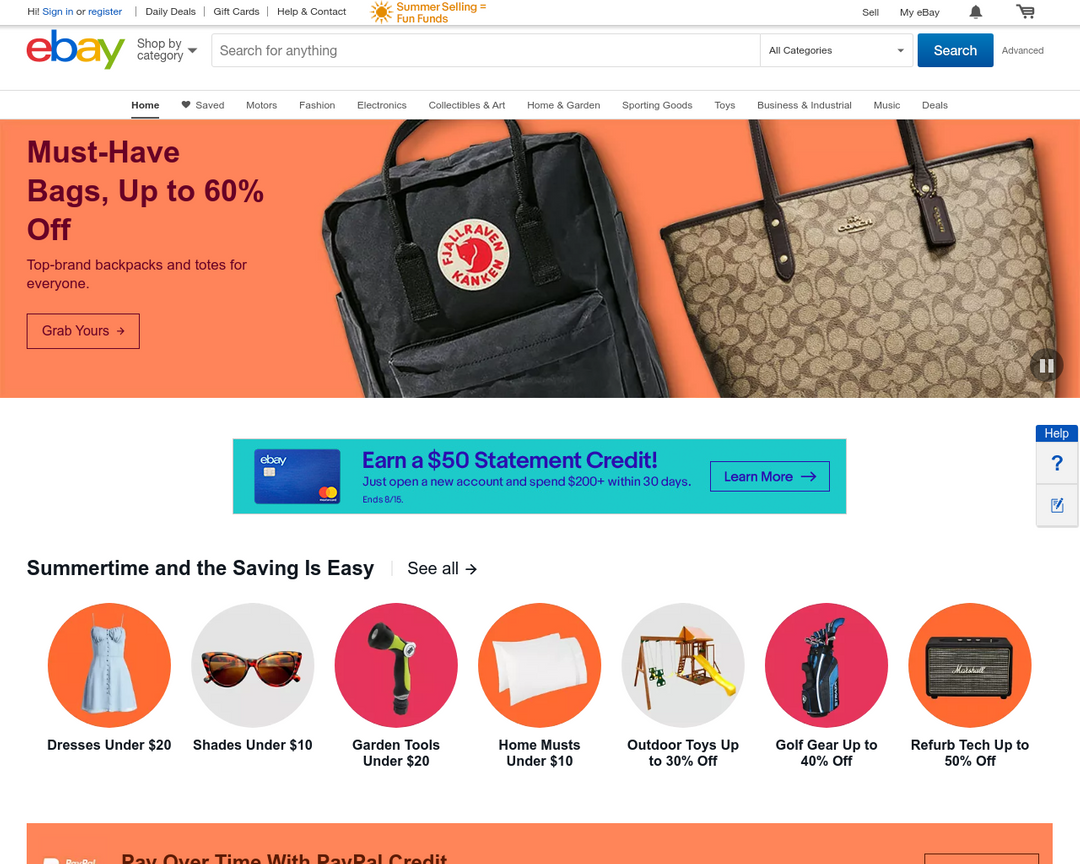Ebay: (24, 26, 126, 74)
